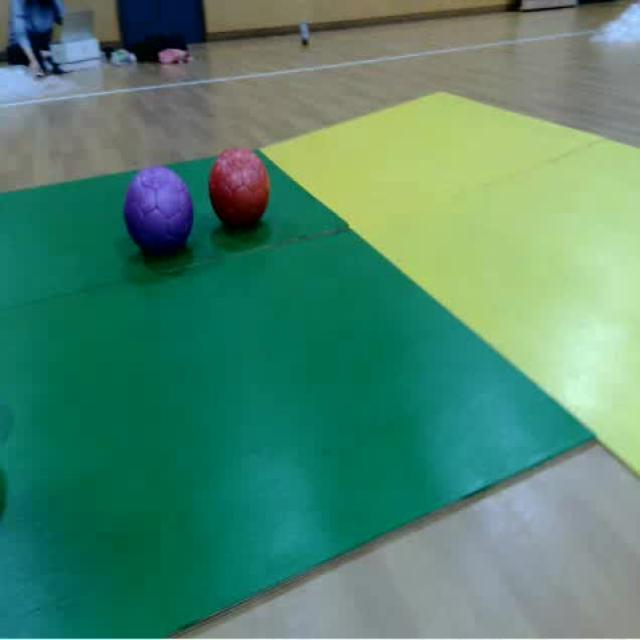purple_ball: (124, 166, 195, 260)
red_ball: (208, 144, 270, 238)
